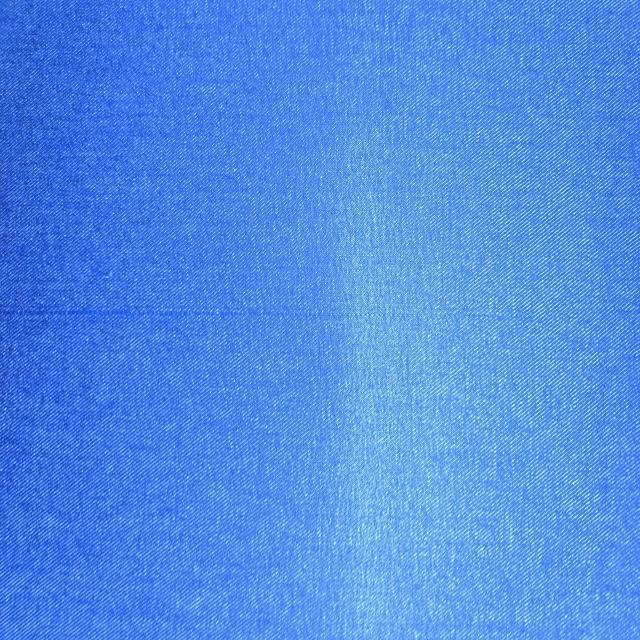Line: (0, 302, 631, 320)
